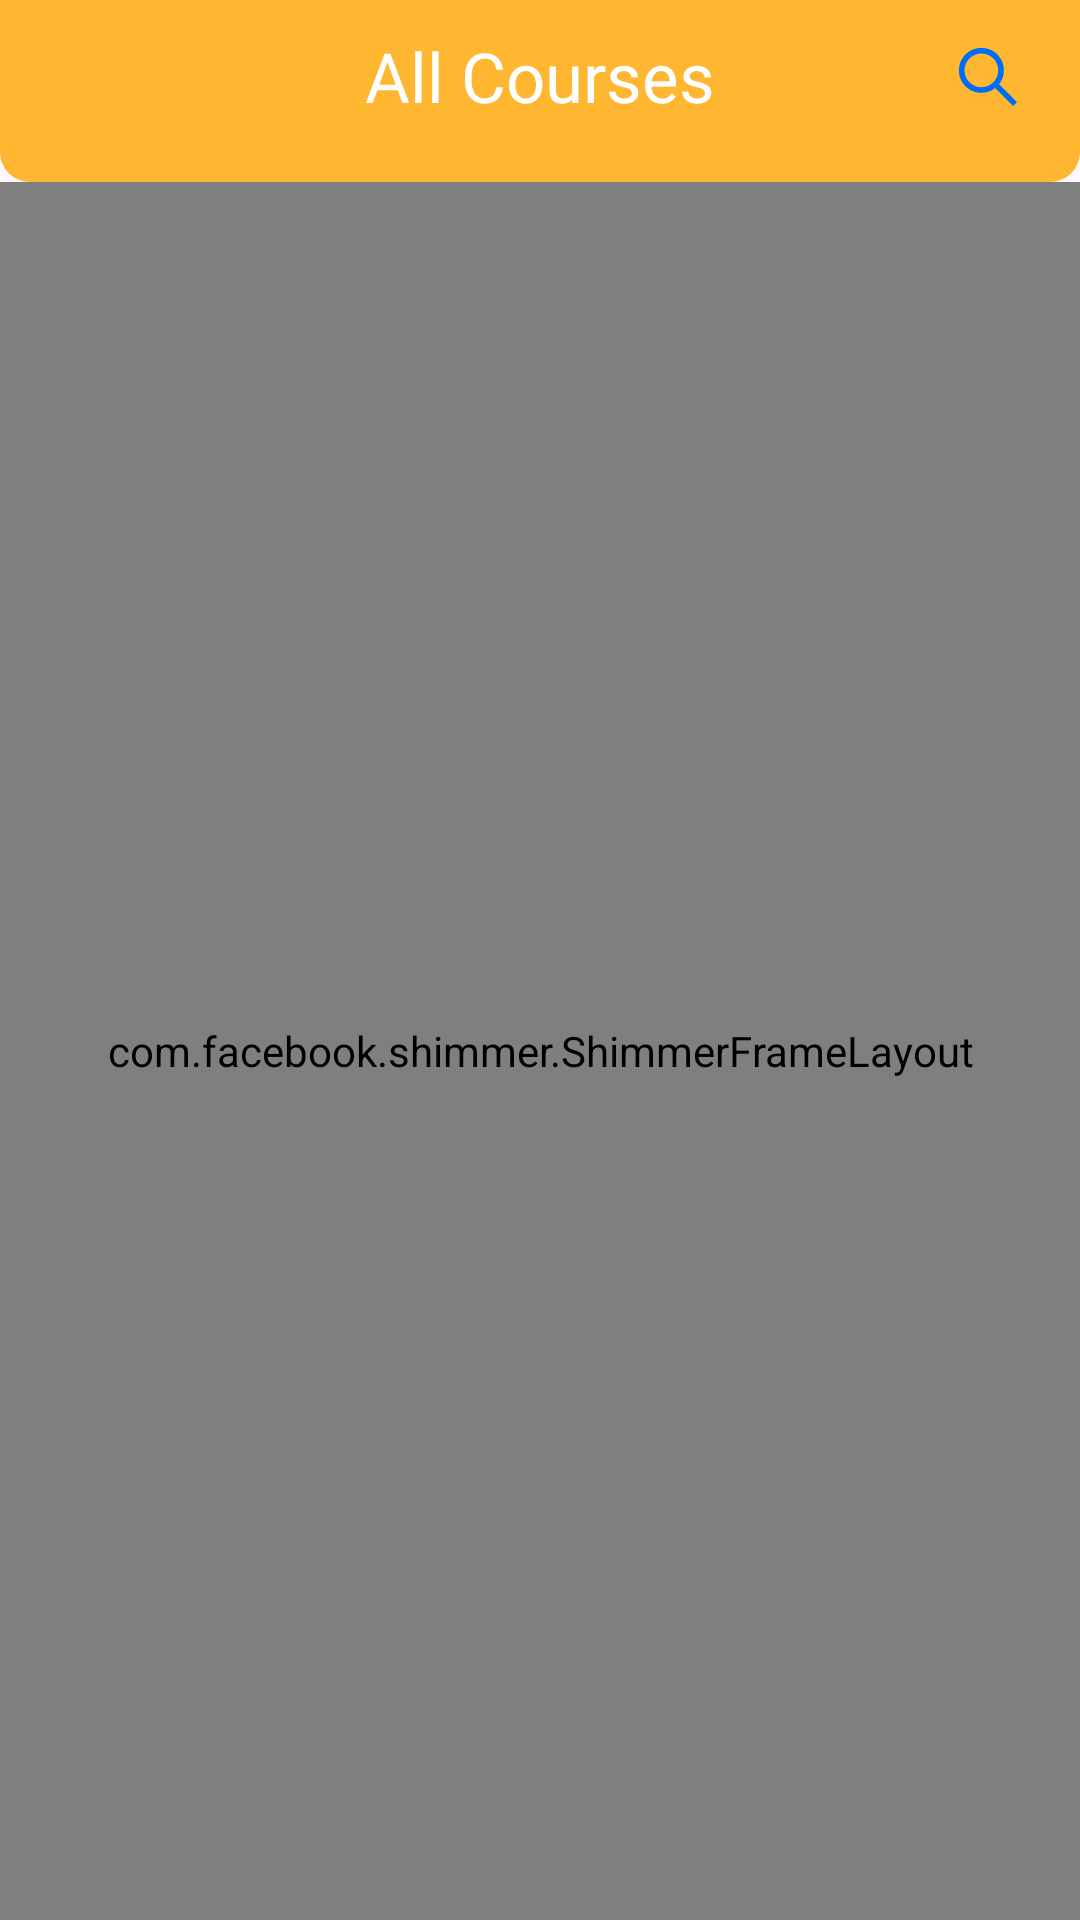

Named icons in this screenshot (1080*1920) and their centers, (x,y):
search: (988,77)
